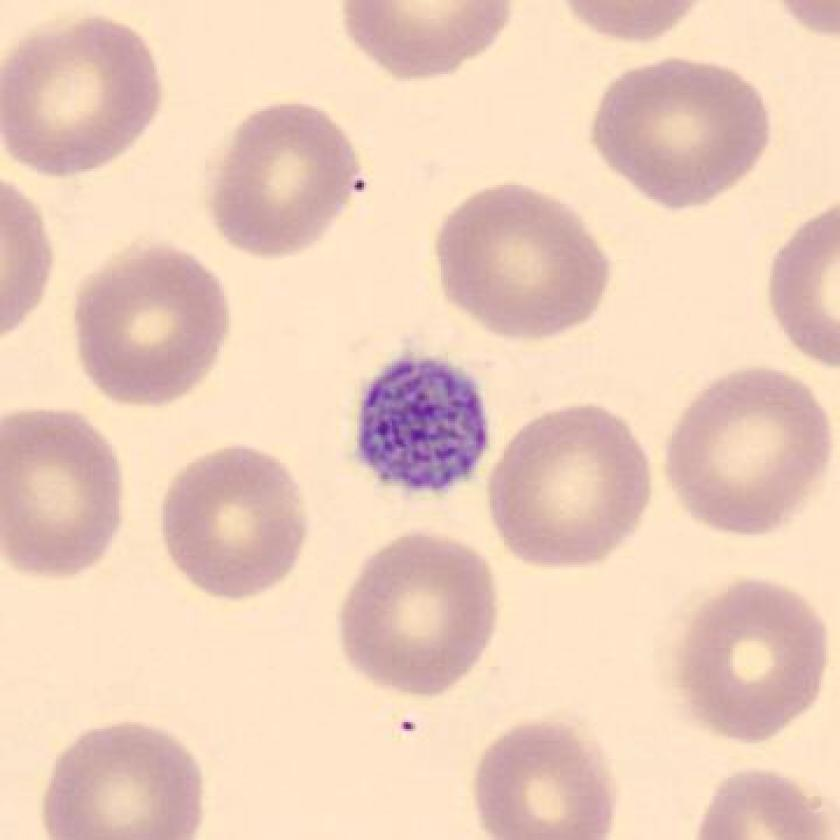platelets: (349, 346, 500, 505)
